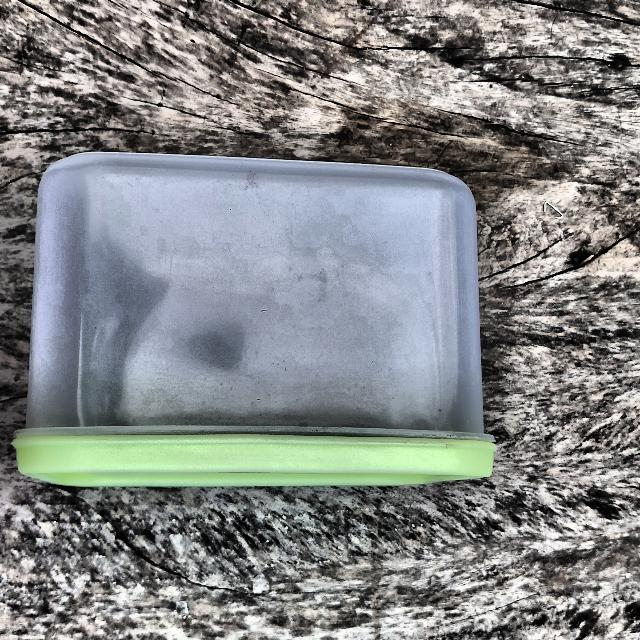plastic container: (10, 146, 512, 503)
